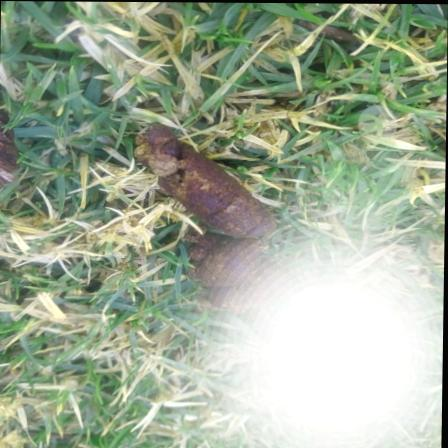dog-poop: (148, 130, 274, 305)
